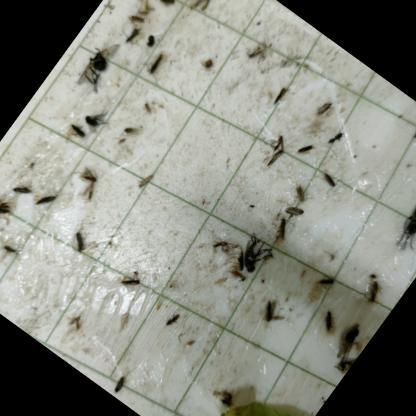prays_oleae: (109, 270, 147, 308), (251, 290, 287, 330), (357, 275, 392, 314), (313, 303, 347, 340), (137, 50, 169, 86), (277, 193, 311, 226), (311, 166, 342, 198), (310, 264, 341, 296), (286, 178, 316, 209), (289, 136, 318, 166), (131, 163, 158, 195), (266, 81, 294, 111), (156, 304, 184, 334), (116, 115, 144, 144), (116, 23, 142, 54), (32, 186, 60, 214), (268, 218, 296, 245), (0, 192, 18, 234), (311, 96, 337, 124), (67, 228, 93, 254), (75, 167, 101, 193), (124, 6, 150, 32), (10, 178, 34, 201), (80, 110, 104, 132), (78, 184, 100, 208), (403, 110, 416, 145), (66, 120, 88, 140), (156, 0, 179, 12)
